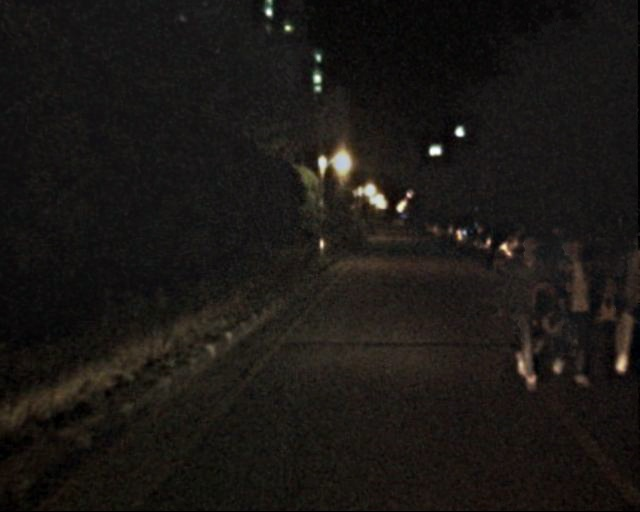person: (490, 235, 562, 395), (535, 235, 606, 386), (607, 242, 640, 385)
